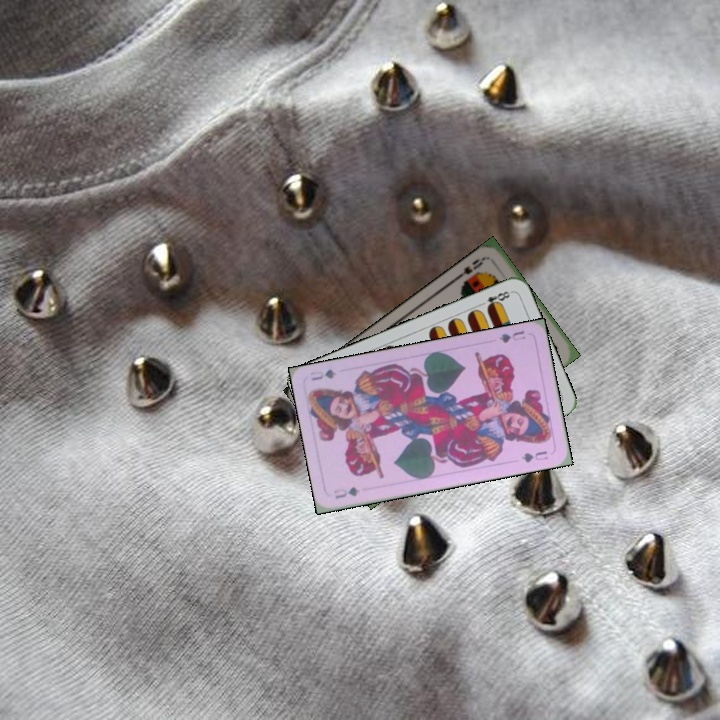E8: (475, 287, 514, 312)
GU: (495, 326, 528, 345), (330, 483, 362, 501)
SO: (453, 252, 488, 281)
